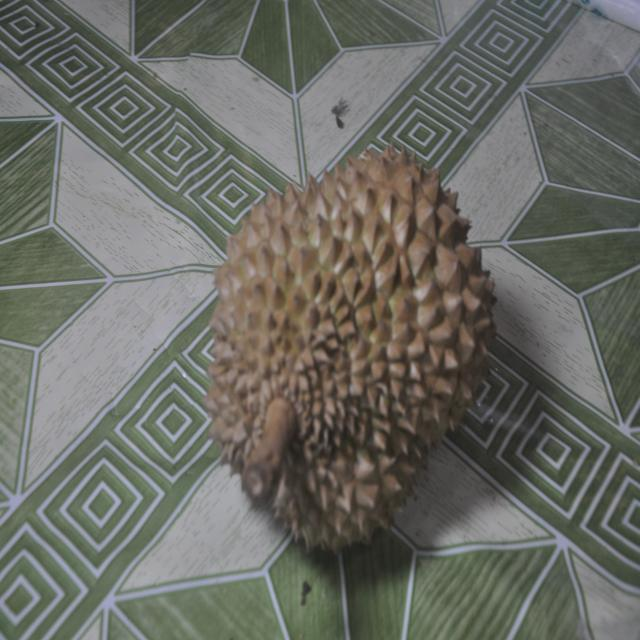mature: (204, 145, 495, 553)
